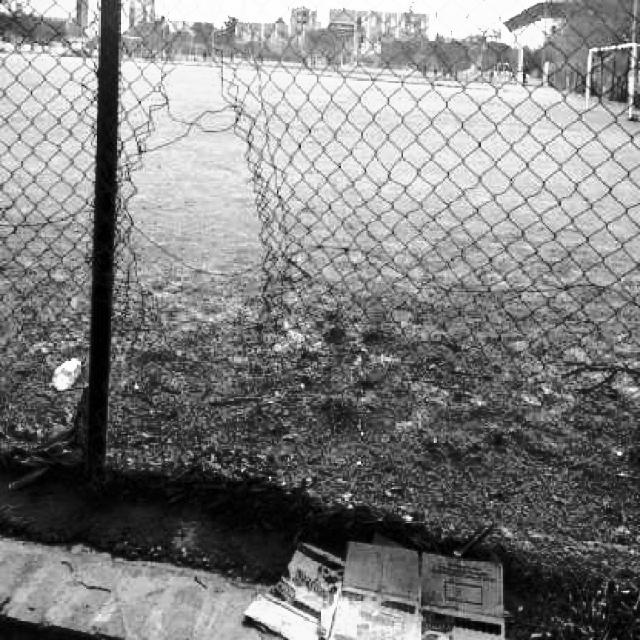anomaly-fence: (97, 16, 301, 479)
